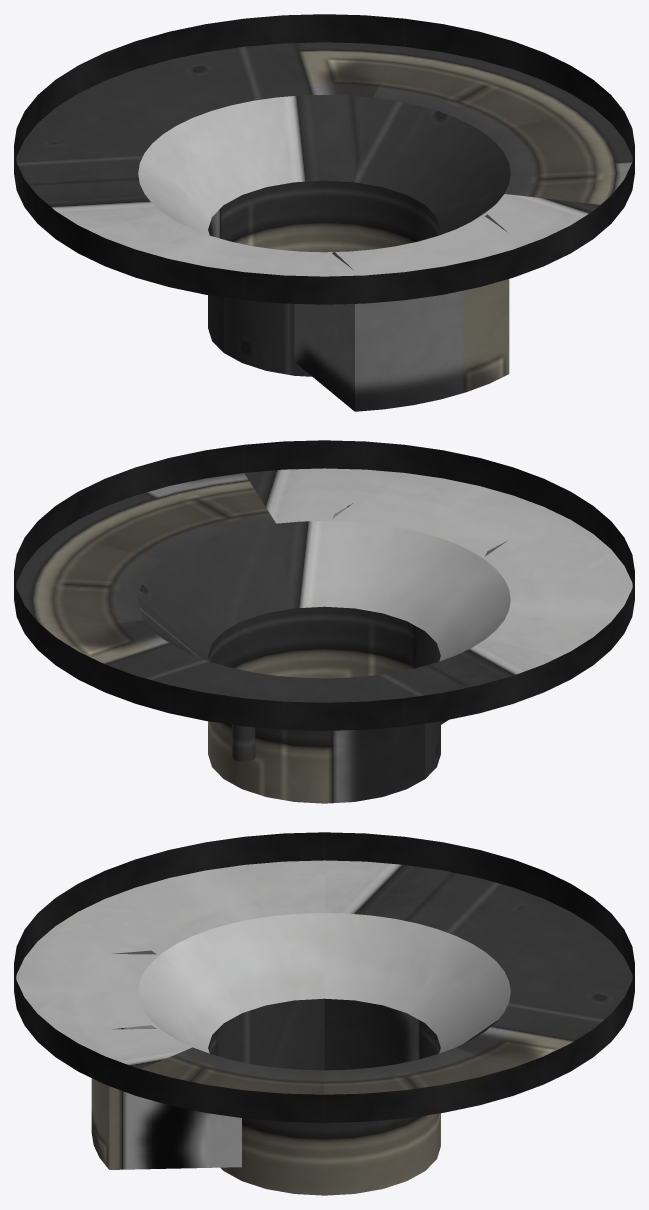
The model's file is rotanev_lv_engine_mount_s4_1.obj.
3 renders of one model, top to bottom at view 1: azimuth 30°, elevation 25°; view 2: azimuth 150°, elevation 25°; view 3: azimuth 270°, elevation 25°, orthographic.
Parts seen in each view (by area): view 1: 2; view 2: 2; view 3: 2.
Boxes of the visible parts, x1,y1,x2,y2 form: 2: (14, 14, 634, 411); 2: (14, 440, 634, 803); 2: (14, 832, 634, 1195).
Size of the model in its own units: 5 by 1.62 by 5.
